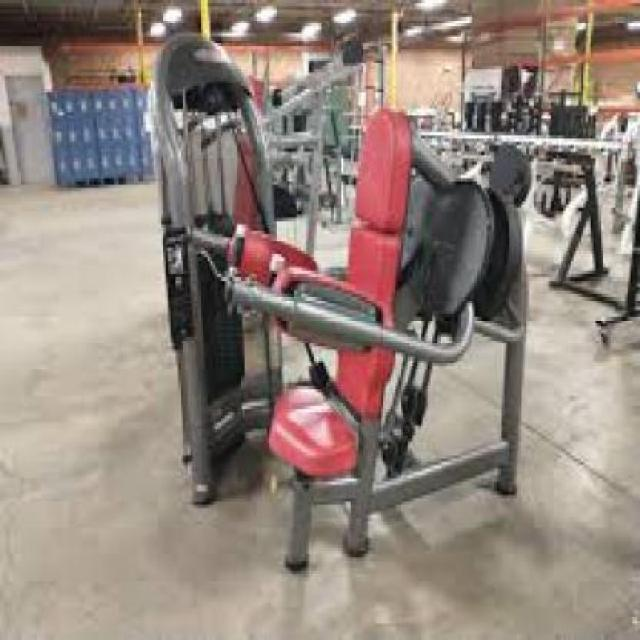lateral raises machine: (152, 31, 538, 572)
